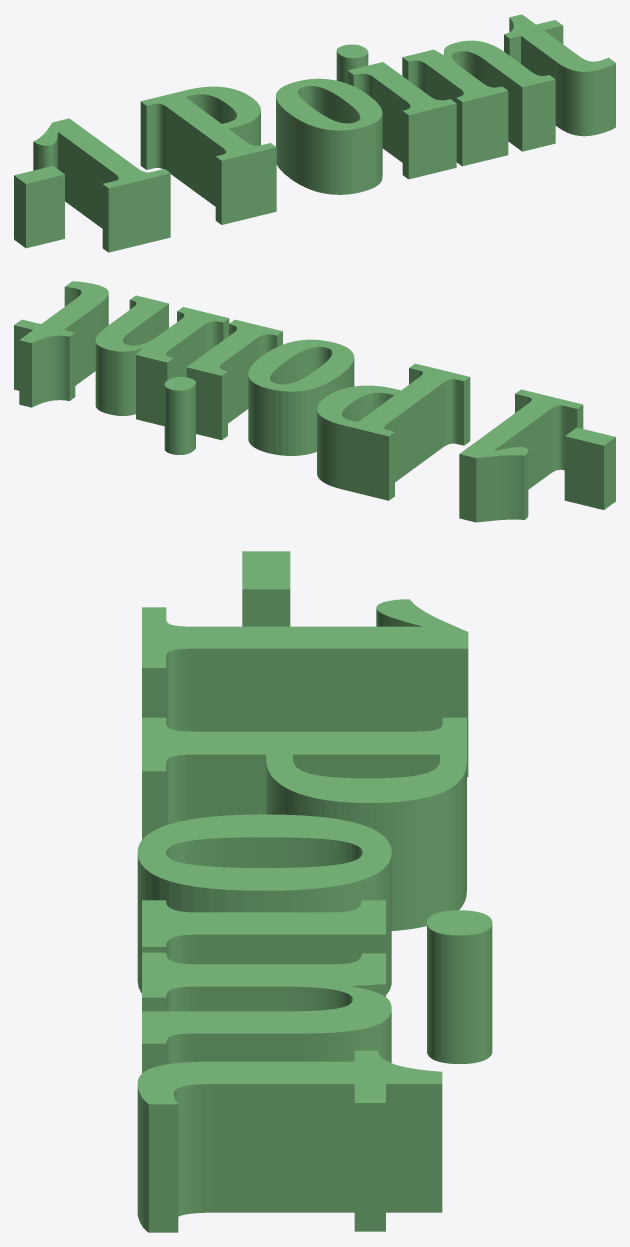
The model's file is neg1.gltf.
3 views of the same model, one above another, from view 1: azimuth 30°, elevation 25°; view 2: azimuth 150°, elevation 25°; view 3: azimuth 270°, elevation 25° (orthographic). The views are drawn at different scales.
Parts seen in each view (by area): view 1: Mesh_Mesh_head_geo001_lambert2SG001; view 2: Mesh_Mesh_head_geo001_lambert2SG001; view 3: Mesh_Mesh_head_geo001_lambert2SG001.
Part boxes in pixels (x1,y1,x2,y2): Mesh_Mesh_head_geo001_lambert2SG001: (14, 14, 615, 252); Mesh_Mesh_head_geo001_lambert2SG001: (14, 281, 615, 522); Mesh_Mesh_head_geo001_lambert2SG001: (137, 551, 492, 1232).
Bounding box in the file's own units: 18.44 × 2 × 5.
